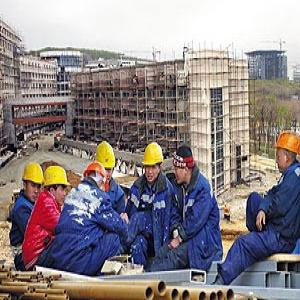none: (174, 146, 196, 186)
yellow: (275, 132, 300, 174), (45, 167, 69, 208), (22, 163, 44, 204), (143, 144, 164, 184), (85, 162, 110, 194), (98, 141, 116, 182)
